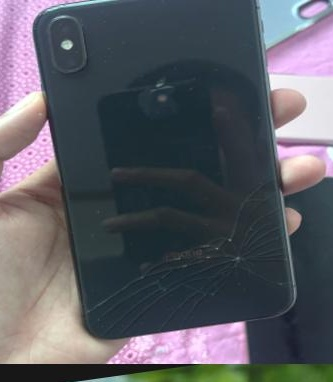physical_damage: (223, 172, 298, 305), (166, 221, 239, 317), (106, 240, 175, 335), (74, 272, 113, 340)
